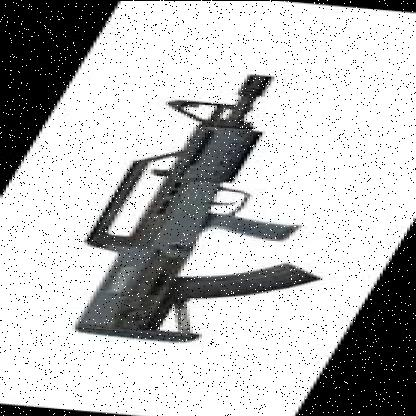rifle: (9, 69, 416, 356)
